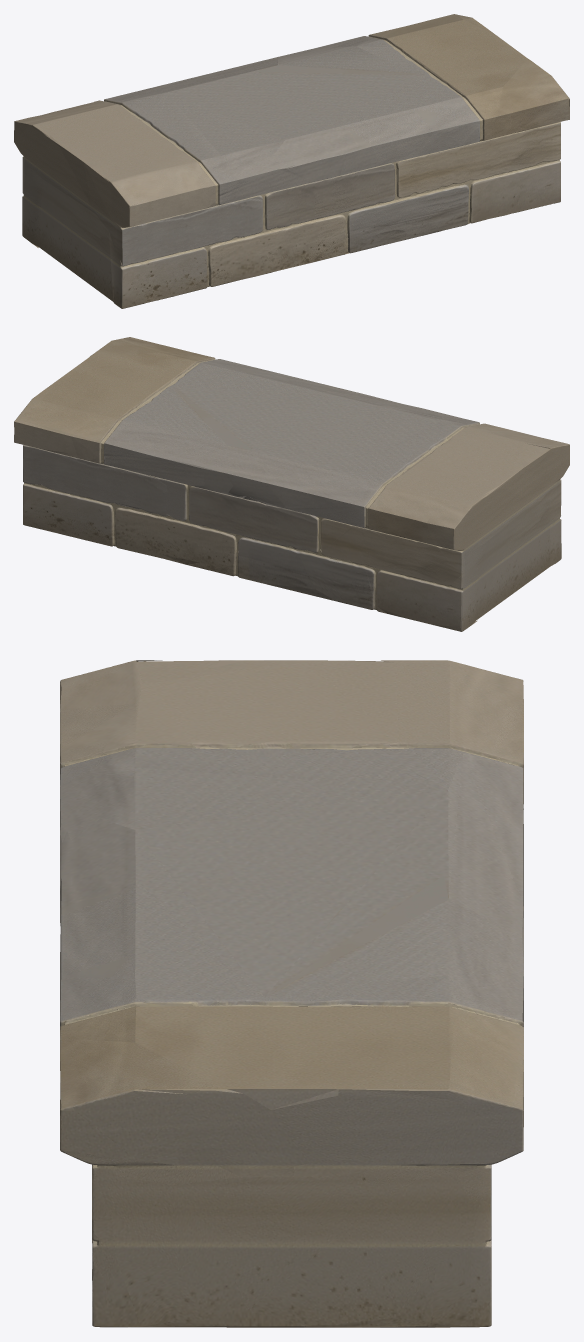
The model's file is familok_stone_plinth.glb.
The picture shows the model from 3 angles, top to bottom: view 1: azimuth 30°, elevation 25°; view 2: azimuth 150°, elevation 25°; view 3: azimuth 270°, elevation 25°; orthographic projection. The views are drawn at different scales.
Bounding box in the file's own units: 1.9 × 0.493 × 0.8679.
1 material, 1 textured.
